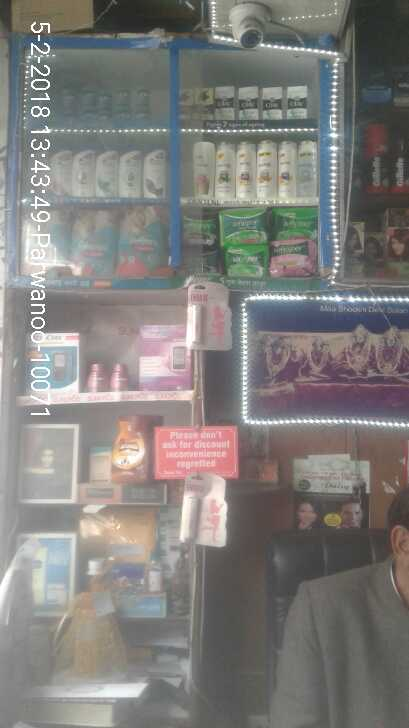vicks: (26, 79, 163, 129)
